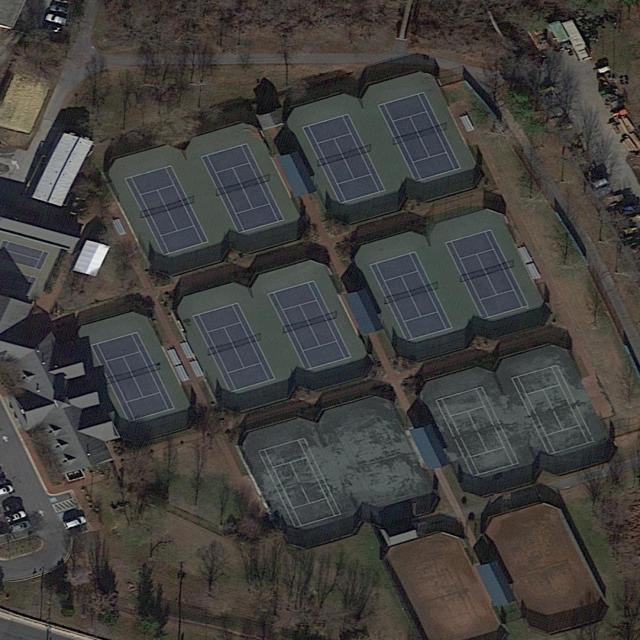small-vehicle: (60, 514, 89, 530), (6, 519, 33, 535), (43, 12, 70, 26), (2, 509, 27, 524), (50, 4, 72, 14)
